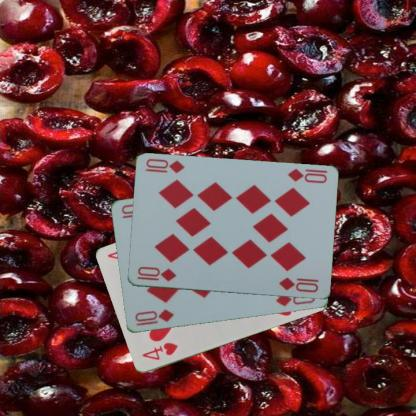10d: (132, 307, 175, 327), (284, 166, 328, 185), (134, 264, 177, 283)
4h: (139, 340, 179, 362)
